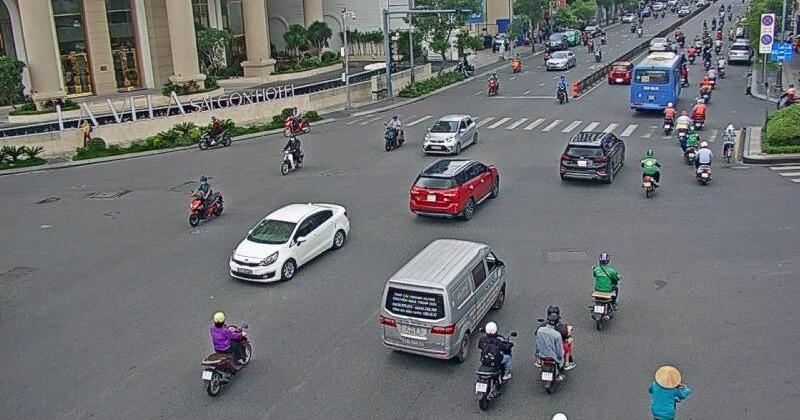xe hoi: (227, 202, 354, 285), (408, 157, 496, 219), (556, 127, 627, 184), (423, 112, 474, 156)
xe may: (200, 311, 252, 397), (469, 321, 517, 410), (532, 303, 576, 391), (586, 247, 622, 333), (187, 174, 221, 229), (278, 134, 303, 176), (638, 148, 658, 198), (694, 139, 713, 185), (383, 113, 405, 151)
xe van: (375, 238, 508, 368)
